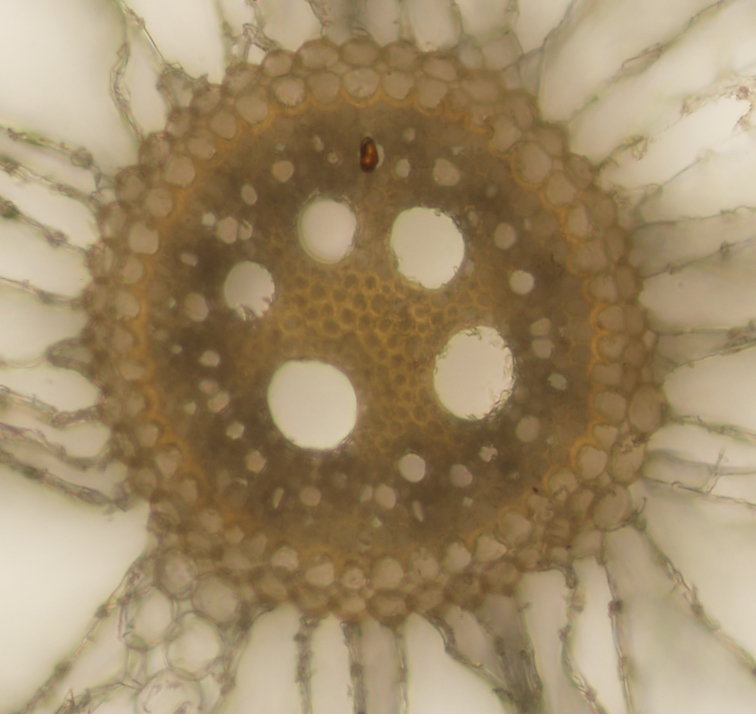lm: (268, 358, 357, 450), (432, 324, 514, 421), (390, 204, 464, 290), (297, 196, 357, 266), (222, 260, 275, 322)
